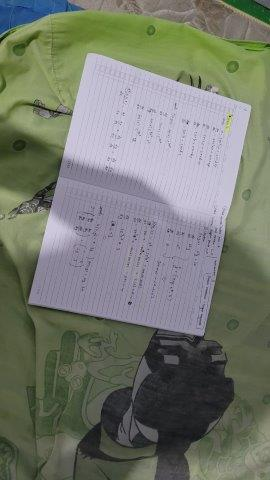kertas: (28, 53, 251, 338)
